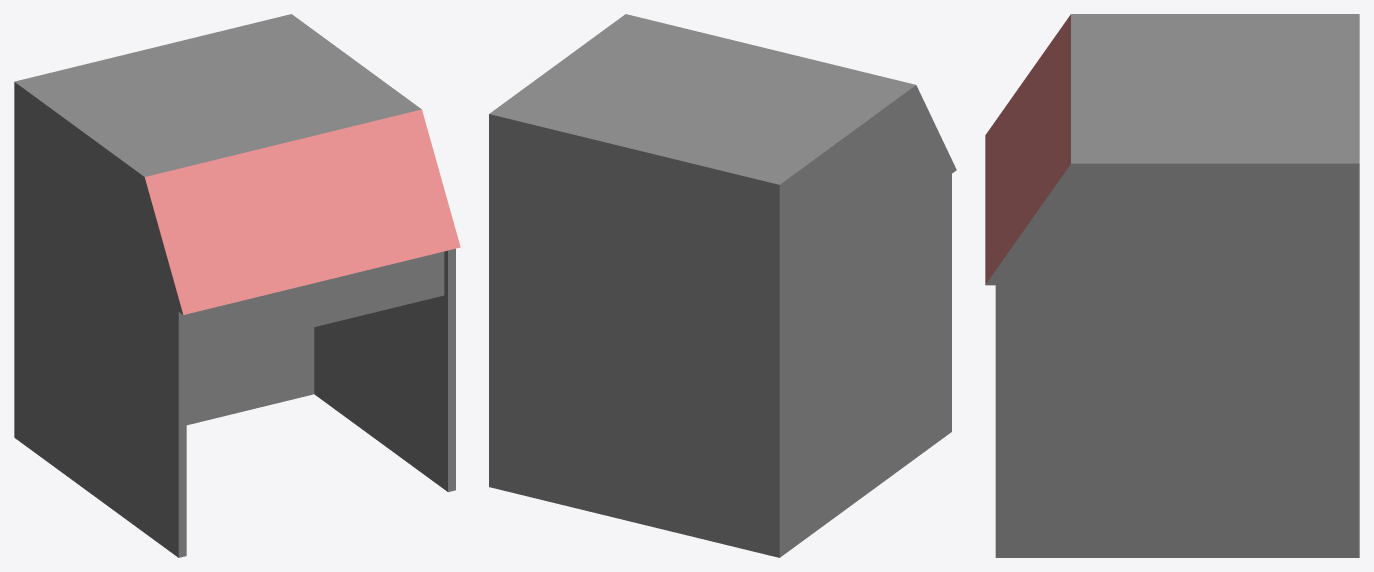
Rendered from LV_GrassLand_MartaCity_Shop01_SM_KMS.gltf.
The picture shows the model from 3 angles, left to right: view 1: azimuth 30°, elevation 25°; view 2: azimuth 150°, elevation 25°; view 3: azimuth 270°, elevation 25°; orthographic projection. The views are drawn at different scales.
Parts seen in each view (by area): view 1: LV_GrassLand_MartaCity_Shop01_SM_KMS; view 2: LV_GrassLand_MartaCity_Shop01_SM_KMS; view 3: LV_GrassLand_MartaCity_Shop01_SM_KMS.
Boxes of the visible parts, x1,y1,x2,y2 form: LV_GrassLand_MartaCity_Shop01_SM_KMS: [14, 14, 460, 557]; LV_GrassLand_MartaCity_Shop01_SM_KMS: [489, 14, 956, 557]; LV_GrassLand_MartaCity_Shop01_SM_KMS: [985, 14, 1359, 557].
Bounding box in the file's own units: 1.89 × 2.32 × 2.
